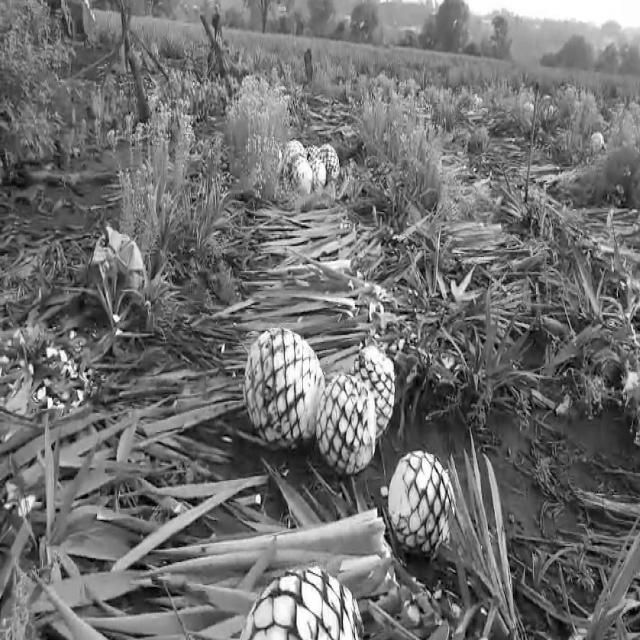agave: (240, 318, 322, 452), (236, 559, 366, 640), (389, 448, 457, 565), (319, 366, 377, 480), (350, 336, 398, 435), (290, 157, 312, 192), (322, 142, 341, 178), (310, 157, 328, 189)
